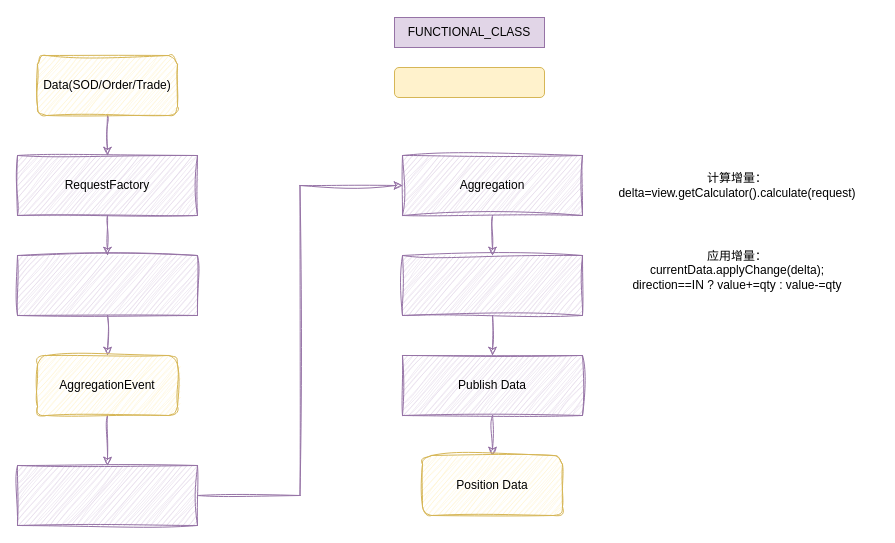
Some shapes in this 895 by 543 pixel diagram are drawn without their labels. Each missing label, with the centre of its shape:
AggregationEventDispatcher: [107,495]
DATA: [469,82]
StoreToCache: [492,285]
TradingRequestListener: [107,285]
